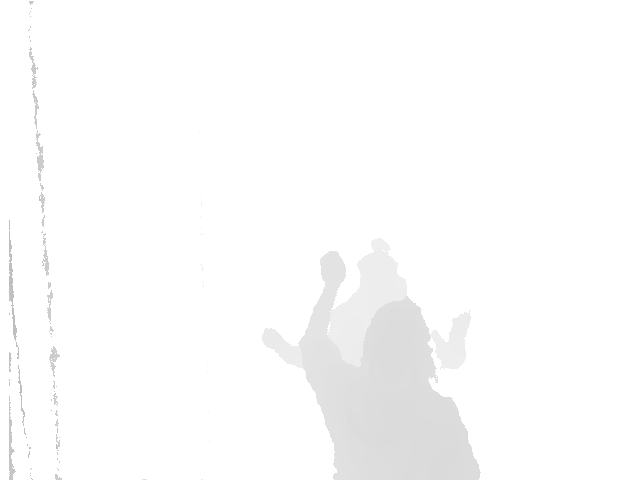hand: (319, 251, 347, 287)
head: (359, 300, 436, 403), (358, 240, 398, 291)
person: (298, 251, 481, 480), (261, 240, 474, 371)
